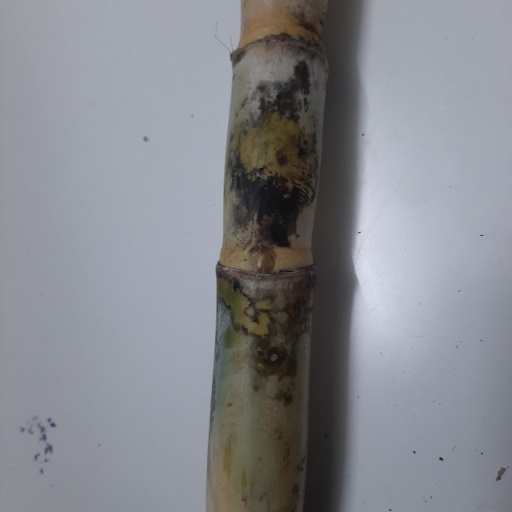Bud: (250, 249, 274, 275)
